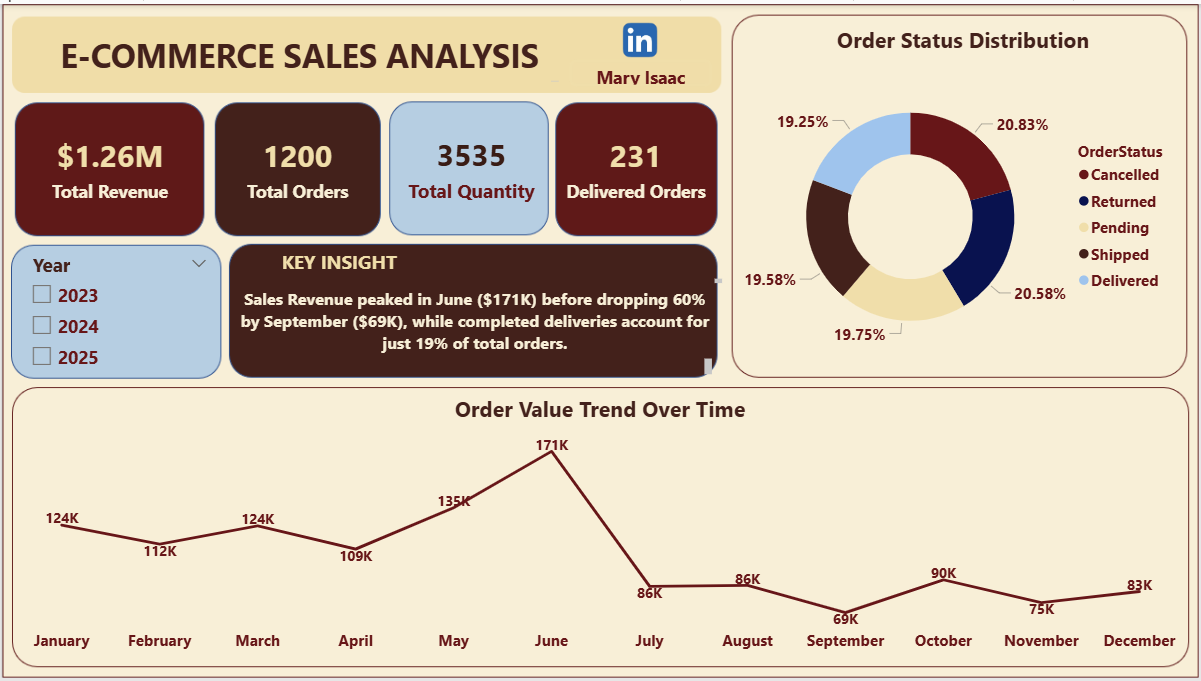

What the dashboard file says about the page in this screenshot:
{"tool":"powerbi","page":{"name":"EXECUTIVE OVERVIEW","canvas":[1280,720],"ordinal":0},"visuals":[{"type":"textbox","title":"E-COMMERCE SALES ANALYSIS","box":[50.8,36.1,562.3,57.4],"z":0},{"type":"card","fields":{"Values":["Cleaned Data.Total Revenue"]},"box":[50.8,108.2,168.9,106.6],"z":1000},{"type":"card","fields":{"Values":["Cleaned Data.Total Orders"]},"box":[219.7,108.2,167.2,106.6],"z":2000},{"type":"card","fields":{"Values":["Cleaned Data.Total Quantity"]},"box":[398.4,108.2,175.4,106.6],"z":3000},{"type":"card","fields":{"Values":["Cleaned Data.Delivered Orders"]},"box":[582,108.2,162.3,106.6],"z":4000},{"type":"clusteredBarChart","title":"Total Order Value by Product","fields":{"Category":["Cleaned Data.Product"],"Y":["Cleaned Data.Total Revenue"]},"box":[765.6,36.1,455.7,337.7],"z":5000},{"type":"donutChart","title":"Order Status Distribution","fields":{"Category":["Cleaned Data.OrderStatus"],"Y":["Cleaned Data.Total Orders"]},"box":[50.8,390.2,588.5,291.8],"z":6000},{"type":"lineChart","title":"Order Value Trend Over Time","fields":{"Category":["Cleaned Data.Date.Variation.Date Hierarchy.Month"],"Y":["Cleaned Data.Total Order Value"]},"box":[650.8,390.2,582,291.8],"z":7000},{"type":"slicer","fields":{"Values":["Cleaned Data.Date.Variation.Date Hierarchy.Year"]},"box":[72.1,221.3,191.8,139.3],"z":8000},{"type":"textbox","title":"Sales are fairly balanced across products, but monthly revenue is highly variable.  Revenue peaked at $171K in June before falling to $69K in September.","box":[287.9,278.4,456.5,97],"z":9000},{"type":"textbox","title":"KEY INSIGHT","box":[321.3,237,443.8,41.4],"z":10000},{"type":"actionButton","box":[593.4,65.6,150.8,42.6],"z":11000},{"type":"image","box":[629.5,36.1,68.9,42.6],"z":12000}]}

Visuals, with their boxes in screenshot pixels (x1, y1, x2, y2), scaled from the page's 1280x720 canvas onto the 1201x681 screenshot:
"E-COMMERCE SALES ANALYSIS" textbox: bbox=(48, 34, 575, 88)
card - Cleaned Data.Total Revenue: bbox=(48, 102, 206, 203)
card - Cleaned Data.Total Orders: bbox=(206, 102, 363, 203)
card - Cleaned Data.Total Quantity: bbox=(374, 102, 538, 203)
card - Cleaned Data.Delivered Orders: bbox=(546, 102, 698, 203)
"Total Order Value by Product" clusteredBarChart: bbox=(718, 34, 1146, 354)
"Order Status Distribution" donutChart: bbox=(48, 369, 600, 645)
"Order Value Trend Over Time" lineChart: bbox=(611, 369, 1157, 645)
slicer - Cleaned Data.Date.Variation.Date Hierarchy.Year: bbox=(68, 209, 248, 341)
"Sales are fairly balanced across products, but monthly revenue is highly variable.  Revenue peaked at $171K in June before falling to $69K in September." textbox: bbox=(270, 263, 698, 355)
"KEY INSIGHT" textbox: bbox=(301, 224, 718, 263)
actionButton: bbox=(557, 62, 698, 102)
image: bbox=(591, 34, 655, 74)
